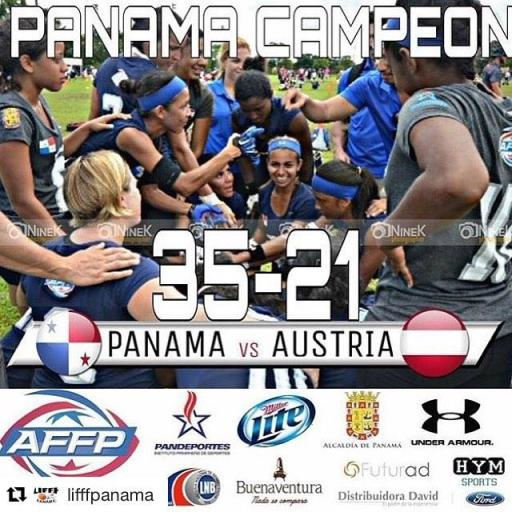Under Armour: (410, 394, 492, 446)
